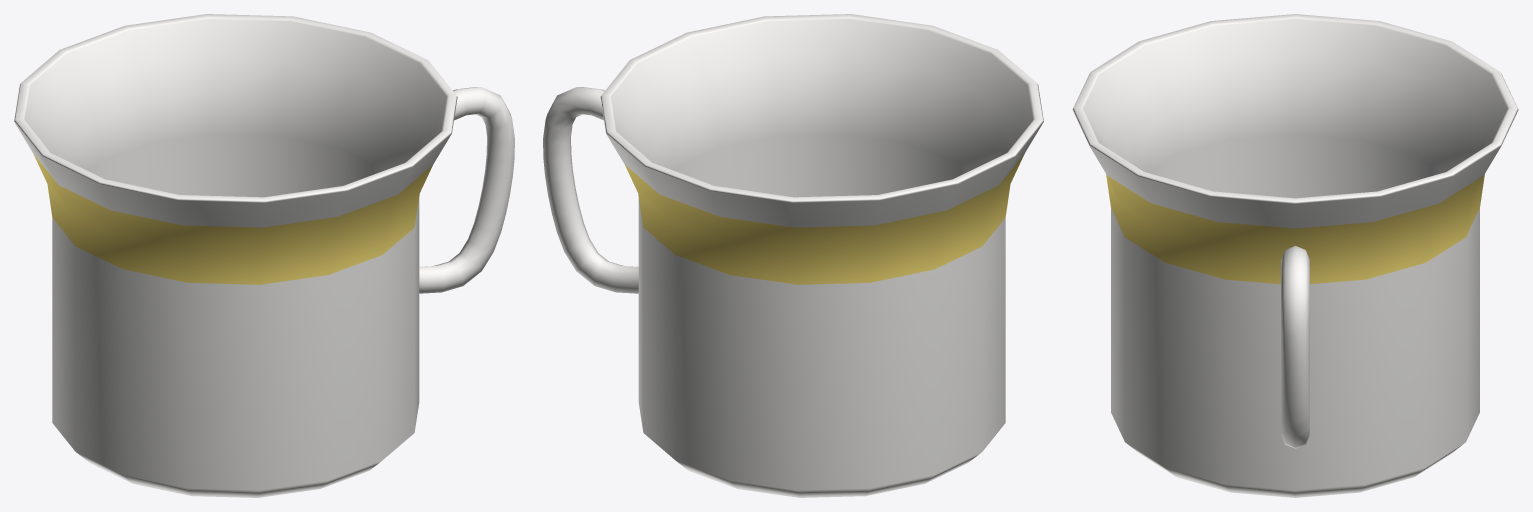
File: Cup_10.glb
3 views of the same model, side by side, from view 1: azimuth 30°, elevation 25°; view 2: azimuth 150°, elevation 25°; view 3: azimuth 270°, elevation 25° (orthographic).
Parts seen in each view (by area): view 1: Cup_10; view 2: Cup_10; view 3: Cup_10.
Boxes of the visible parts, <box> form: Cup_10: <box>14,14,514,497</box>; Cup_10: <box>543,14,1043,497</box>; Cup_10: <box>1072,14,1518,497</box>.
Size of the model in its own units: 0.1376 by 0.0893 by 0.1131.
Materials: 1 (1 with a texture image).
